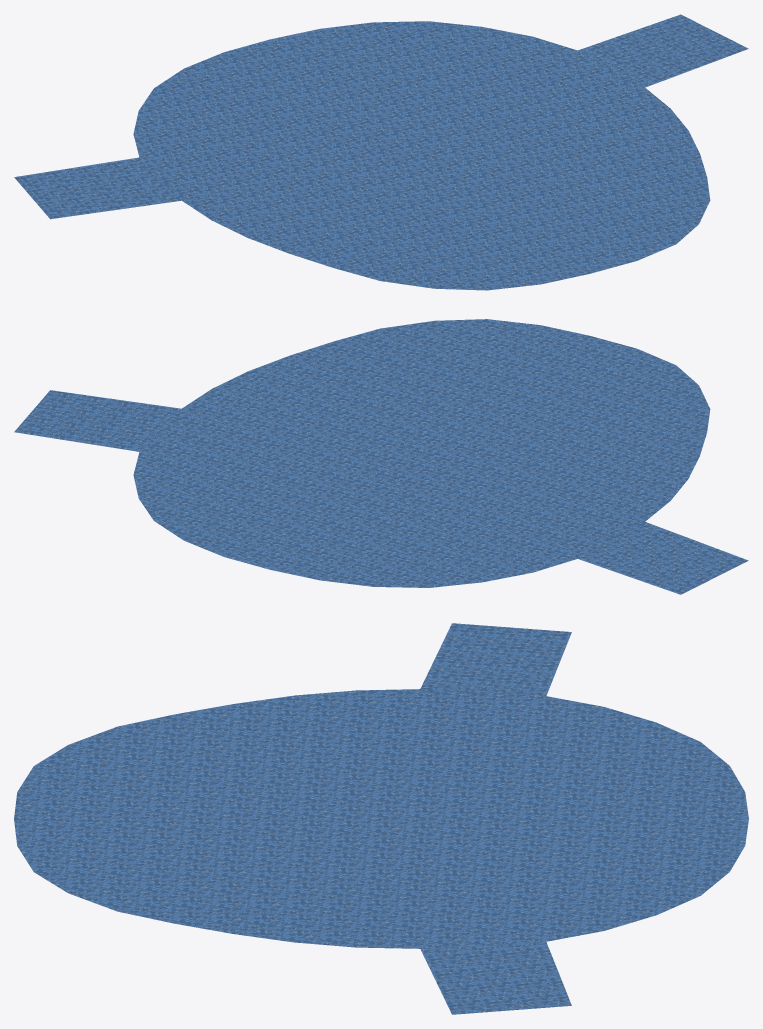
The model's file is Underwater floor.fbx.
3 views of the same model, one above another, from view 1: azimuth 30°, elevation 25°; view 2: azimuth 150°, elevation 25°; view 3: azimuth 270°, elevation 25° (orthographic). The views are drawn at different scales.
Parts seen in each view (by area): view 1: Cylinder_059_movement.004; view 2: Cylinder_059_movement.004; view 3: Cylinder_059_movement.004.
Boxes of the visible parts, left/top/right/bottom form: Cylinder_059_movement.004: left=14, top=14, right=748, bottom=290; Cylinder_059_movement.004: left=14, top=319, right=748, bottom=594; Cylinder_059_movement.004: left=14, top=623, right=748, bottom=1014.
Bounding box in the file's own units: 4334 × 1.18 × 3437.
